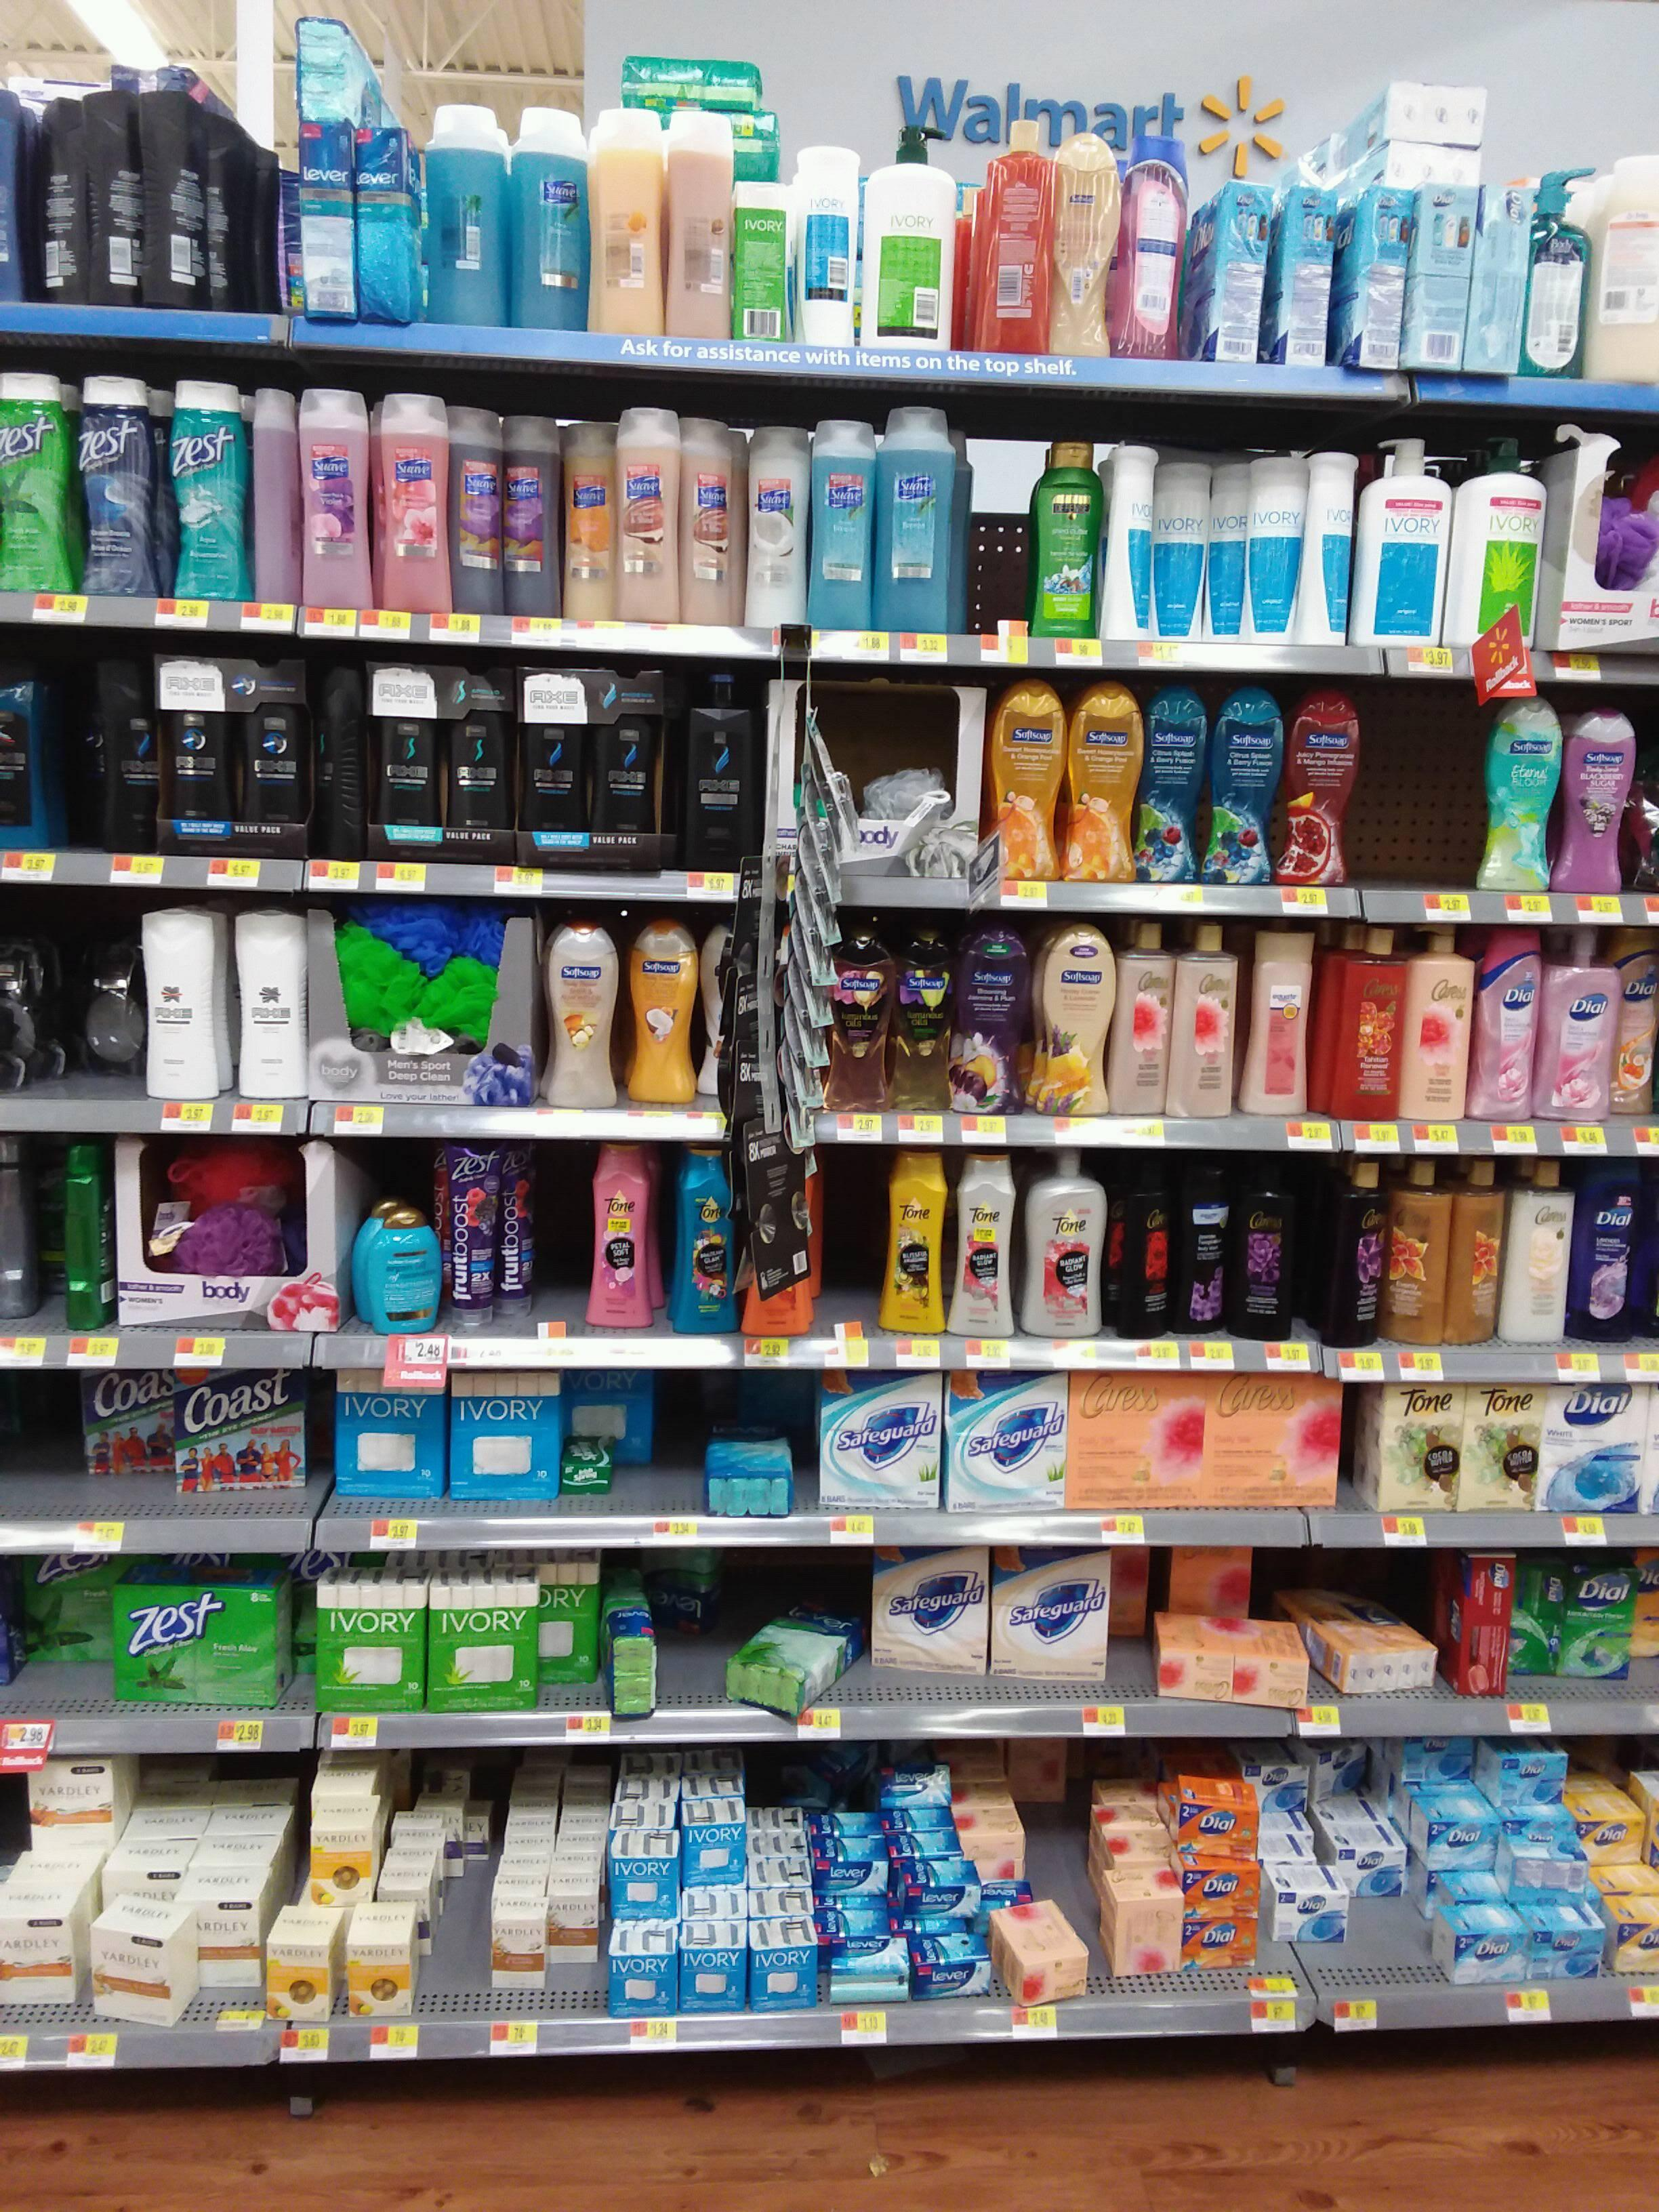empty: (0, 1571, 115, 1721), (2, 1367, 117, 1515), (47, 906, 136, 1097), (56, 655, 143, 848), (1358, 721, 1460, 880), (608, 1376, 711, 1522), (1314, 1876, 1452, 1984), (972, 442, 1033, 636), (666, 1559, 742, 1702), (415, 1860, 484, 2010)
